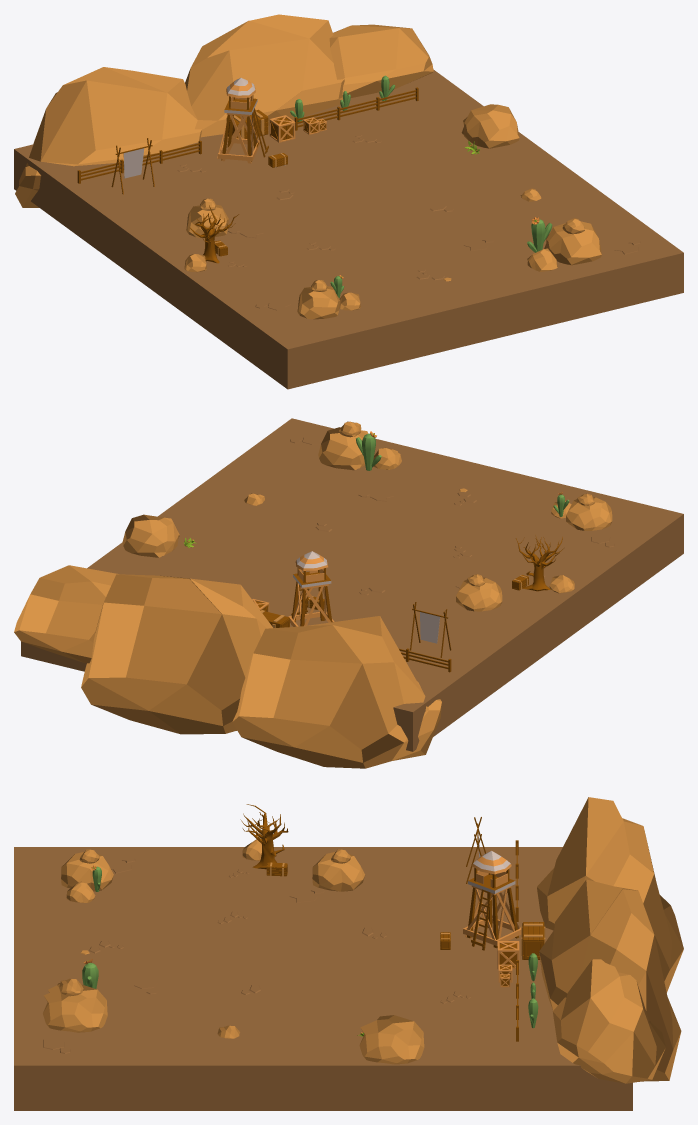
The model's file is desert land env.fbx.
3 views of the same model, one above another, from view 1: azimuth 30°, elevation 25°; view 2: azimuth 150°, elevation 25°; view 3: azimuth 270°, elevation 25° (orthographic). The views are drawn at different scales.
Parts seen in each view (by area): view 1: pPlane1, group19, group22, group21, stone_1 (×3), tower3, stone_5, group34, group44, dry_tree, wood_box_6; view 2: pPlane1, group22, group19, group21, stone_1 (×3), tower3, stone_5, dry_tree, group37, pCube6; view 3: pPlane1, group22, group19, group21, stone_1 (×3), tower3, stone_5, dry_tree, wood_box_5, wood_box_6.
Part boxes in pixels (bbox=[...]): pPlane1: bbox=[14, 69, 683, 389]; group19: bbox=[15, 67, 202, 207]; group22: bbox=[185, 14, 344, 137]; group21: bbox=[329, 24, 433, 97]; stone_1 (×3): bbox=[186, 204, 601, 319]; tower3: bbox=[217, 78, 268, 163]; stone_5: bbox=[461, 104, 519, 148]; group34: bbox=[294, 87, 418, 130]; group44: bbox=[77, 140, 201, 183]; dry_tree: bbox=[190, 205, 239, 263]; wood_box_6: bbox=[269, 115, 295, 142]; pPlane1: bbox=[21, 418, 683, 751]; group22: bbox=[81, 574, 273, 734]; group19: bbox=[232, 616, 441, 768]; group21: bbox=[14, 565, 118, 663]; stone_1 (×3): bbox=[318, 427, 612, 611]; tower3: bbox=[288, 551, 334, 626]; stone_5: bbox=[122, 514, 179, 557]; dry_tree: bbox=[516, 535, 563, 591]; group37: bbox=[356, 431, 381, 470]; pCube6: bbox=[420, 612, 439, 643]; pPlane1: bbox=[14, 847, 632, 1110]; group22: bbox=[539, 879, 681, 1081]; group19: bbox=[537, 797, 683, 992]; group21: bbox=[552, 959, 665, 1083]; stone_1 (×3): bbox=[43, 852, 364, 1032]; tower3: bbox=[463, 851, 521, 950]; stone_5: bbox=[359, 1015, 424, 1064]; dry_tree: bbox=[240, 804, 288, 869]; wood_box_5: bbox=[521, 922, 545, 959]; wood_box_6: bbox=[497, 941, 519, 969].
Bounding box in the file's own units: 476 × 164 × 593.
